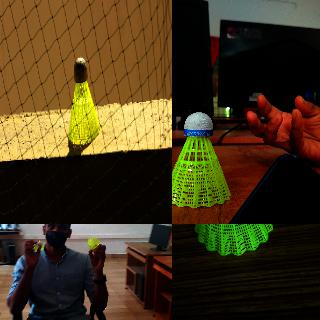shuttlecock: (172, 111, 232, 207), (68, 57, 100, 143), (195, 224, 274, 257), (87, 237, 99, 251)
